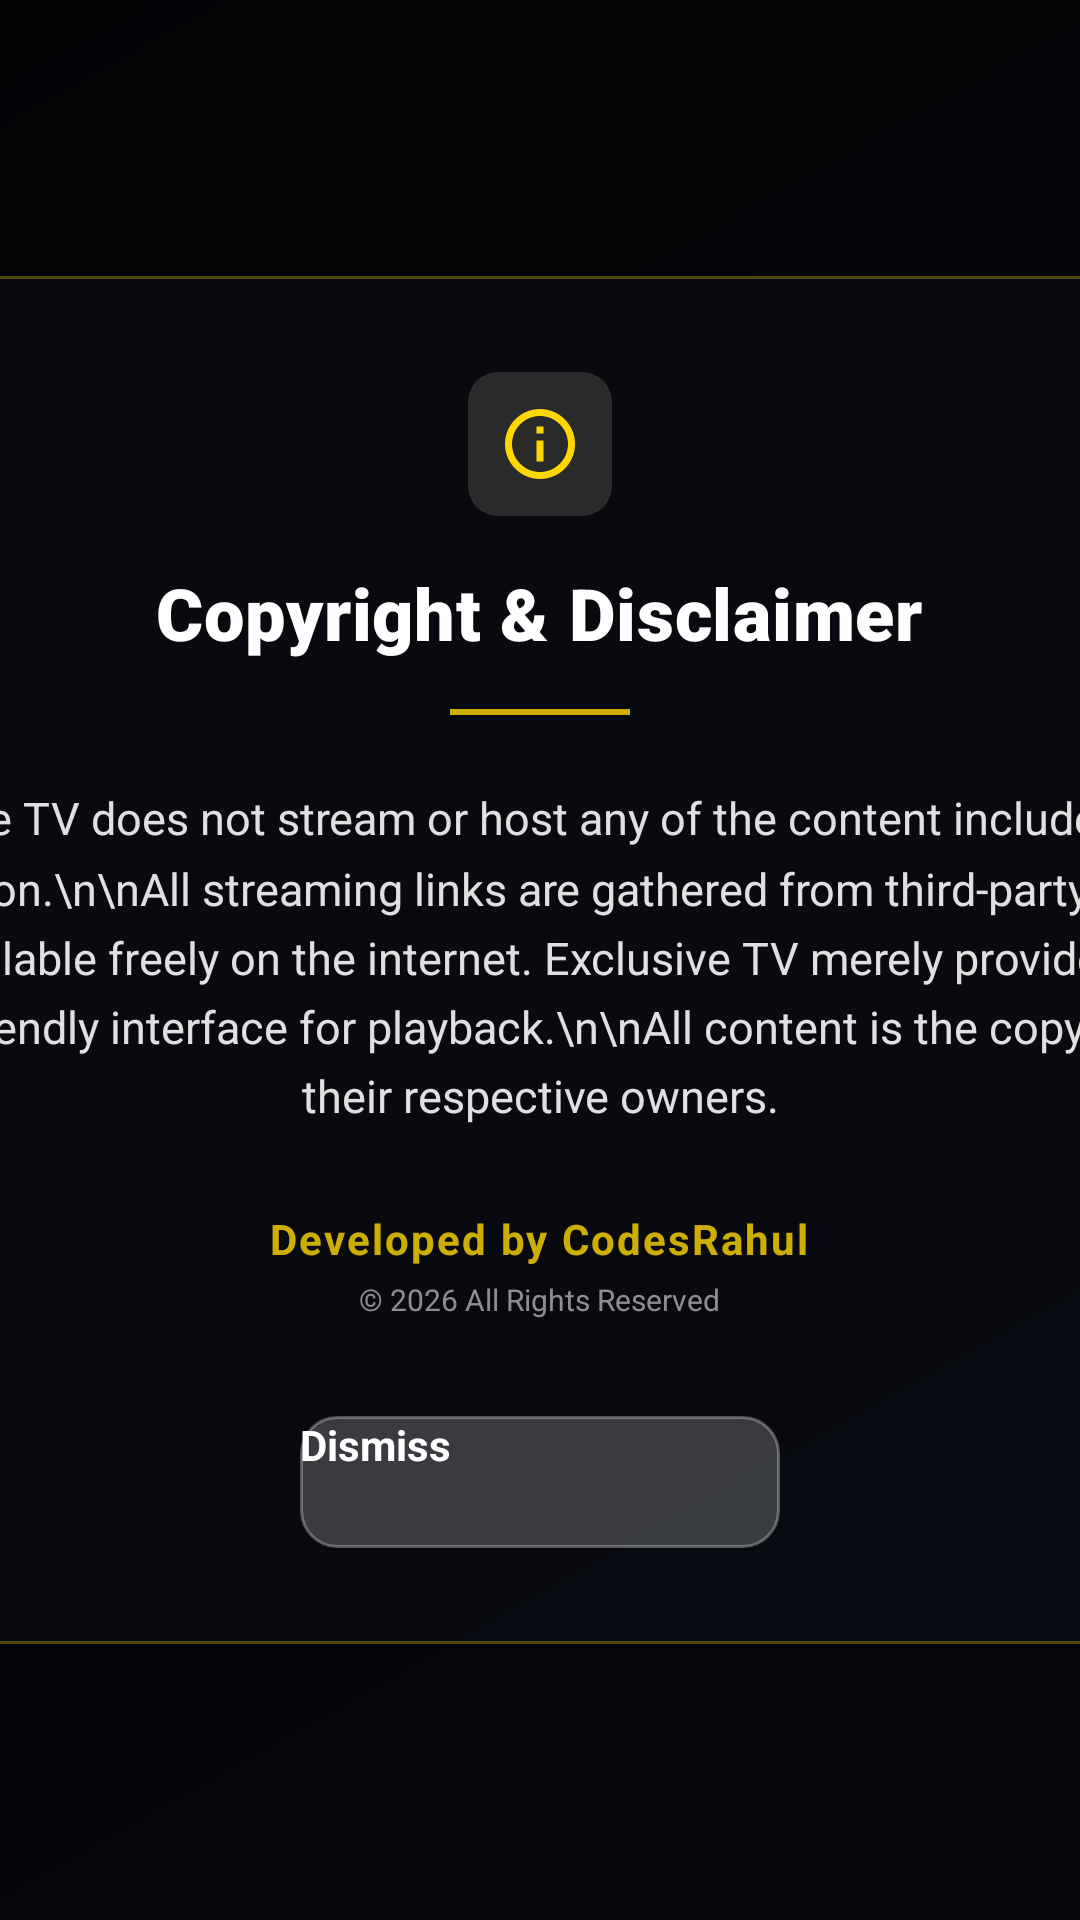

Icons on this 1080px×1920px Android screen, each with the point to tap as (x,y):
info: (540,444)
